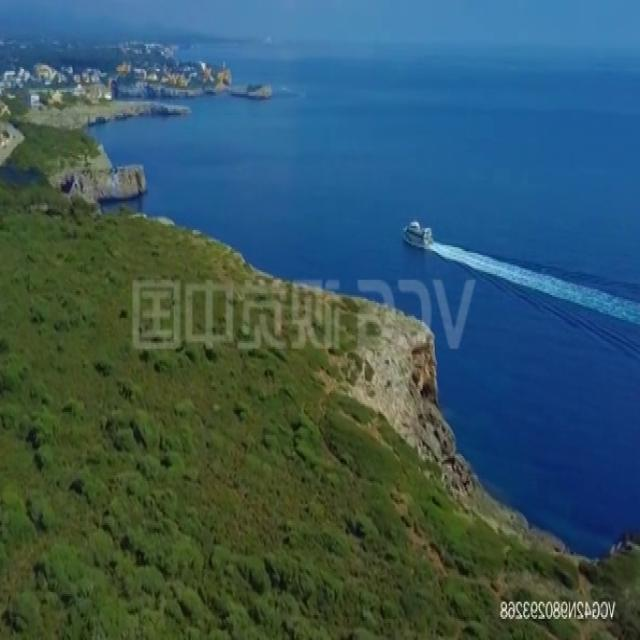houseboat: (401, 216, 432, 249)
